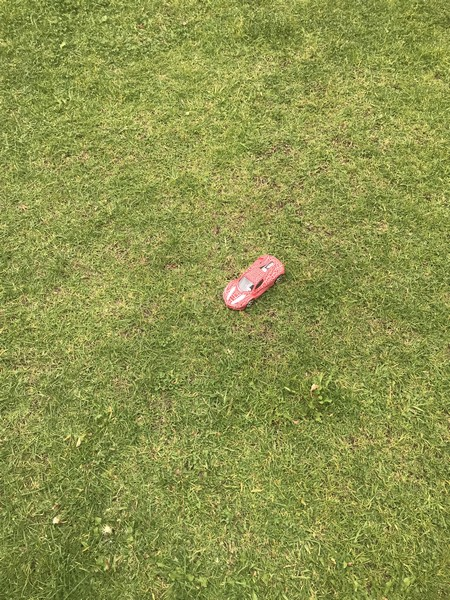RC: (222, 255, 286, 313)
